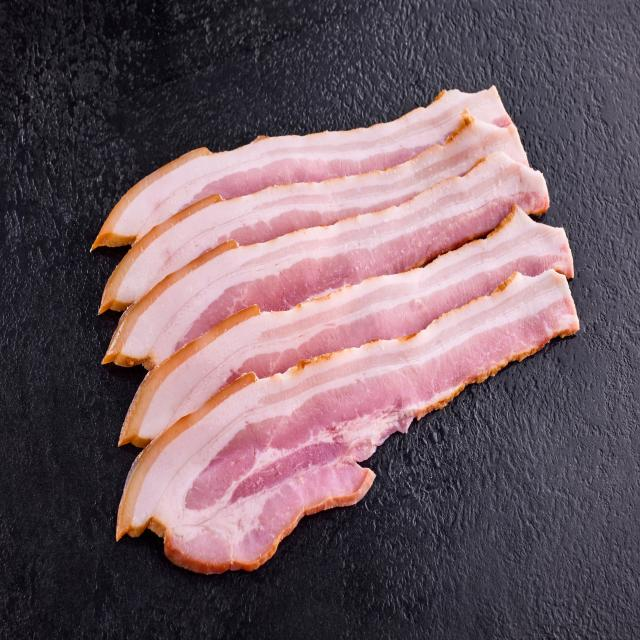bacon: (88, 84, 593, 566)
